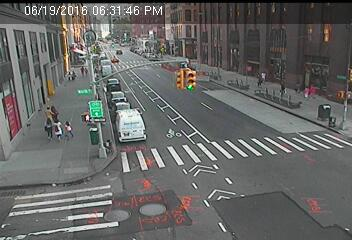neg: (261, 146, 286, 180), (241, 17, 264, 48), (184, 102, 202, 126), (296, 23, 314, 47), (194, 34, 210, 56), (64, 163, 80, 183), (325, 117, 340, 138), (154, 58, 169, 78), (114, 129, 129, 149), (135, 20, 150, 40), (12, 123, 27, 142), (45, 61, 59, 80), (26, 164, 40, 181), (83, 31, 96, 49), (206, 173, 219, 190), (178, 71, 190, 87), (200, 85, 212, 101), (26, 49, 38, 64), (43, 25, 54, 40), (20, 85, 31, 100), (223, 104, 234, 118), (129, 69, 139, 83), (236, 67, 246, 80), (133, 171, 143, 183), (159, 145, 168, 158)
pos: (41, 117, 57, 138), (40, 103, 55, 123), (278, 78, 292, 96), (61, 119, 74, 137), (52, 119, 65, 137), (48, 102, 61, 119), (300, 82, 313, 99), (256, 69, 267, 85), (78, 65, 87, 76), (65, 71, 73, 82), (82, 66, 90, 76), (69, 68, 76, 78)
